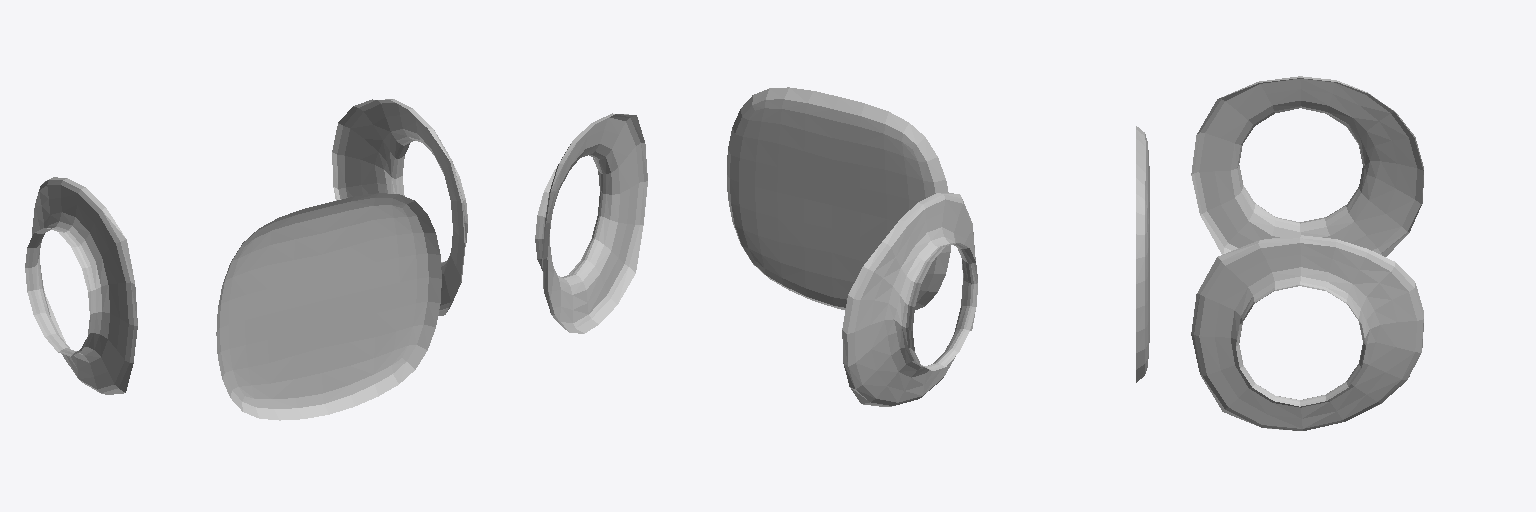
The model's file is headHigh.obj.
3 renders of one model, left to right at view 1: azimuth 30°, elevation 25°; view 2: azimuth 150°, elevation 25°; view 3: azimuth 270°, elevation 25°, orthographic.
Parts seen in each view (by area): view 1: Head.007; view 2: Head.007; view 3: Head.007.
Part boxes in pixels (left/top/right/bottom): Head.007: left=25, top=99, right=467, bottom=420; Head.007: left=535, top=87, right=977, bottom=406; Head.007: left=1136, top=76, right=1423, bottom=430.
Bounding box in the file's own units: 0.3128 × 0.1669 × 0.2057.